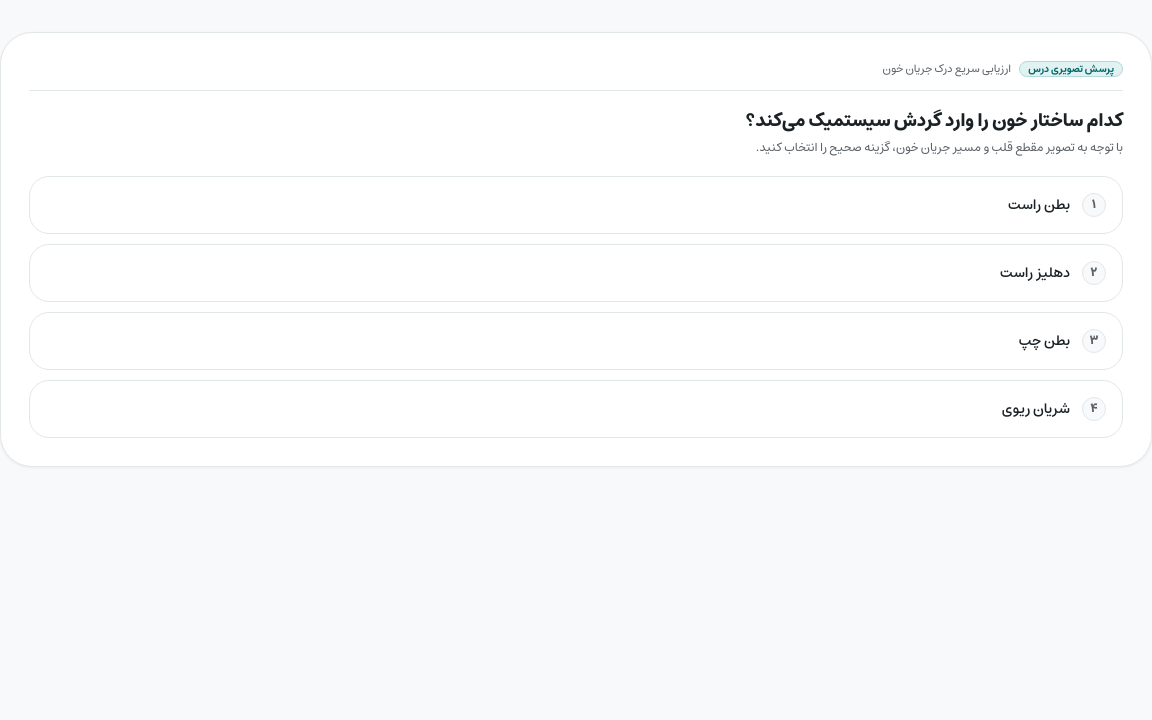
Scenario: Anatomy & Visual Content POC Test Suite › 3. AnatomyQuizCard Component › validates correct answer (بطن چپ) and shows explanation
Click the button "۳ بطن چپ": (1044, 341) x1=29 y1=312 x2=1123 y2=370
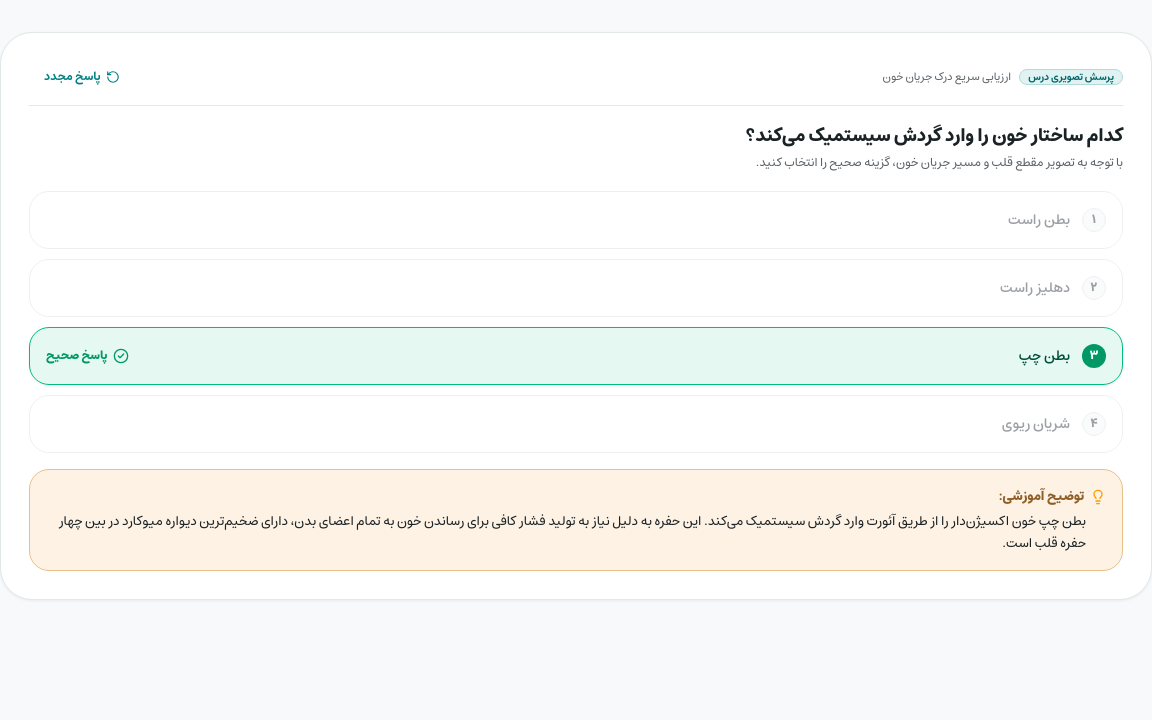
Expected: the text "پاسخ صحیح" is shown, x1=46 y1=348 x2=107 y2=364
Expected: the text "بطن چپ خون اکسیژن‌دار را از طریق آئورت وارد گردش سیستمیک می‌کند" is shown, x1=59 y1=510 x2=1086 y2=554
